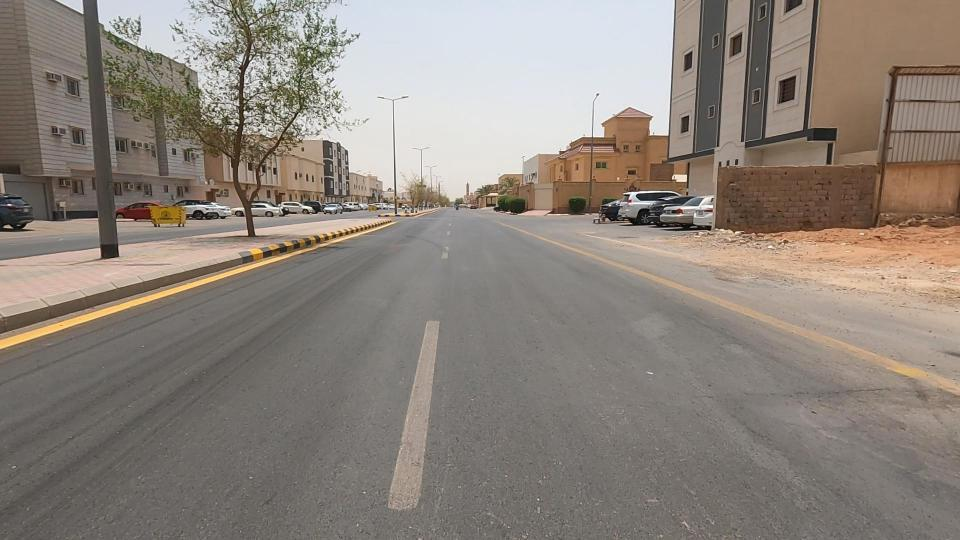GARBAGE: (689, 208, 760, 257)
